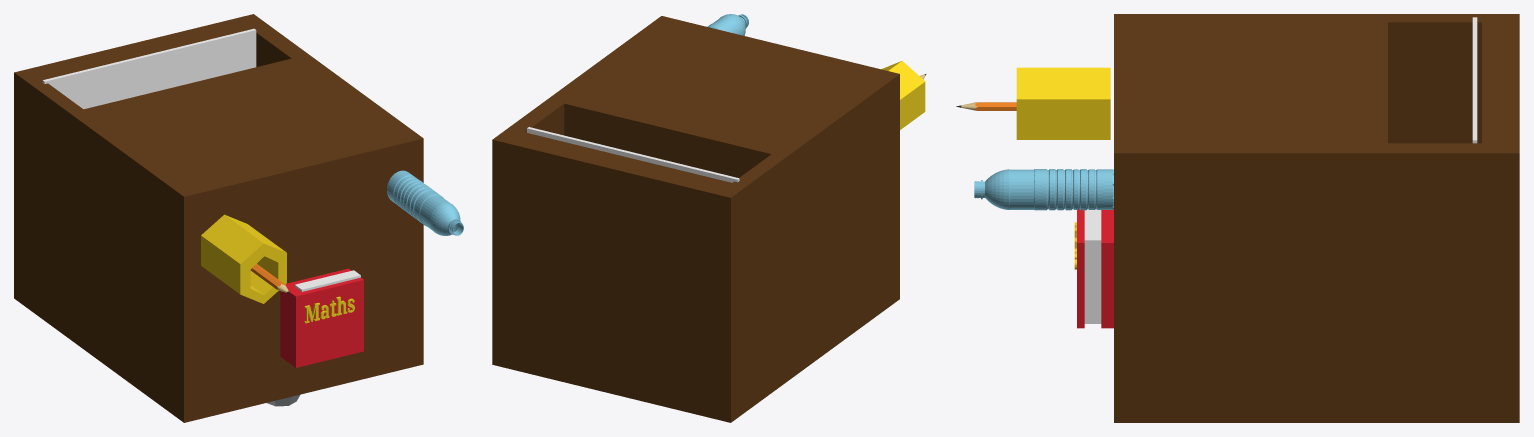
The model's file is tinker.obj.
3 renders of one model, left to right at view 1: azimuth 30°, elevation 25°; view 2: azimuth 150°, elevation 25°; view 3: azimuth 270°, elevation 25°, orthographic. The views are drawn at different scales.
Visible parts, largest first — view 1: group_0_6306067, group_0_16448250, group_0_15277357, group_0_16768282, group_0_8768998; view 2: group_0_6306067, group_0_16448250, group_0_16768282, group_0_8768998; view 3: group_0_6306067, group_0_16768282, group_0_8768998, group_0_16448250, group_0_15277357.
Part boxes in pixels (x1,y1,x2,y2): group_0_6306067: (14,14,423,422); group_0_16448250: (42,28,360,291); group_0_15277357: (280,268,363,367); group_0_16768282: (201,214,354,323); group_0_8768998: (387,170,463,235); group_0_6306067: (492,16,899,422); group_0_16448250: (527,127,739,182); group_0_16768282: (881,61,925,129); group_0_8768998: (707,14,748,35); group_0_6306067: (1114,14,1519,422); group_0_16768282: (1016,67,1110,269); group_0_8768998: (974,169,1113,210); group_0_16448250: (1084,17,1477,323); group_0_15277357: (1077,209,1113,328).
Size of the model in its own units: 70.18 by 72 by 120.
